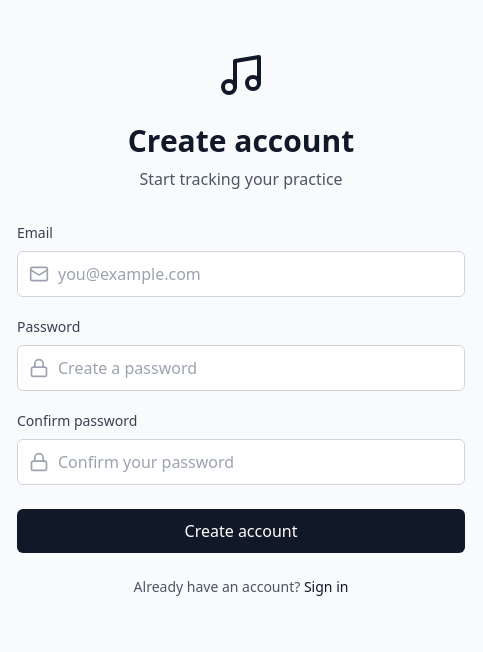
Test: Signup › shows an error message when signUp fails
The width and height of the screenshot is (483, 652).
Type "existing@example.com" into the field labelled "Email" at [241, 274], box 17,251 -> 465,297
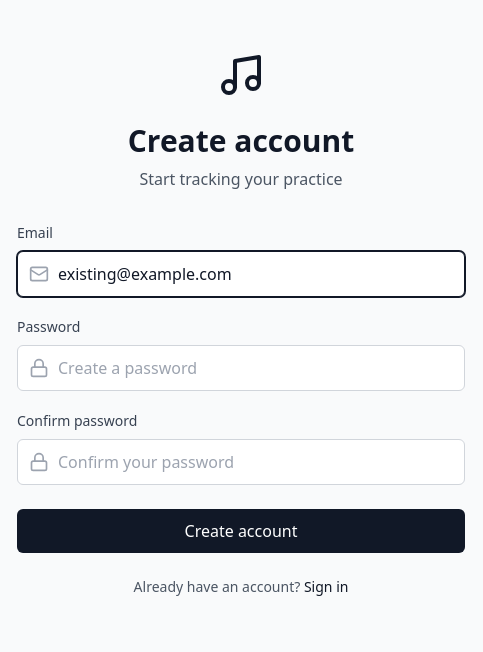
Type "password123" into the password field labelled "Password" at [241, 368], box 17,345 -> 465,391
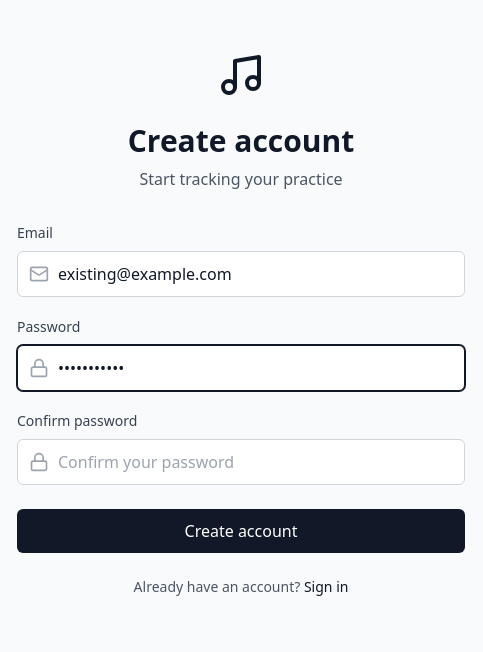
Type "password123" into the password field labelled "Confirm password" at [241, 462], box 17,439 -> 465,485
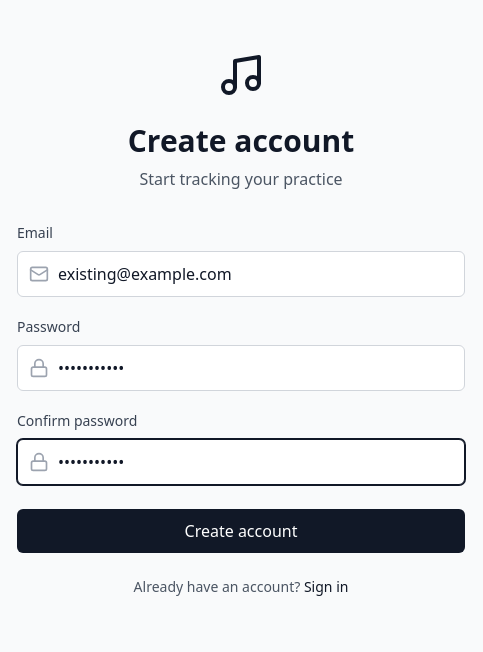
Click the button "Create account" at [241, 531], box 17,509 -> 465,553
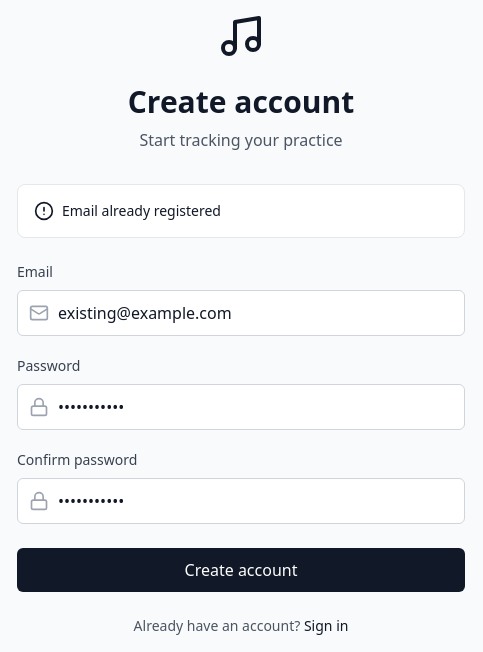
Expected: the text "Email already registered" is shown, 62,201 -> 221,221
